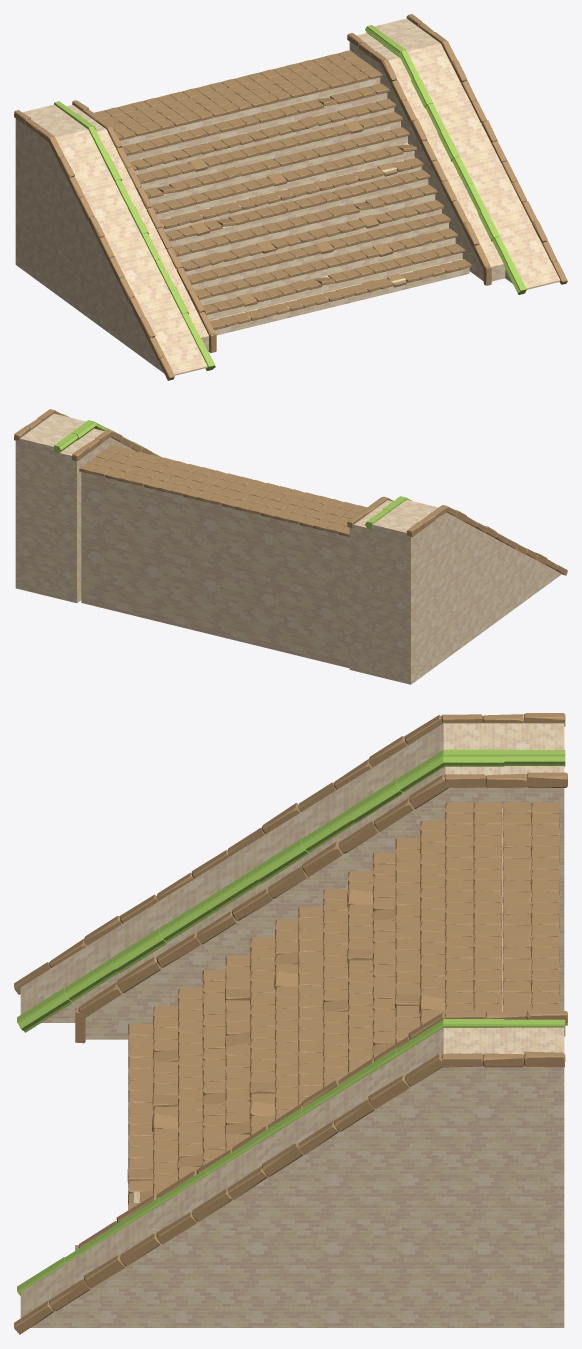
File: SM_staircase_wide.fbx
3 renders of one model, top to bottom at view 1: azimuth 30°, elevation 25°; view 2: azimuth 150°, elevation 25°; view 3: azimuth 270°, elevation 25°, orthographic. The views are drawn at different scales.
Parts seen in each view (by area): view 1: Object32851; view 2: Object32851; view 3: Object32851.
Part boxes in pixels (x1,y1,x2,y2): Object32851: (14,14,567,380); Object32851: (14,409,567,684); Object32851: (14,713,567,1334).
Bounding box in the file's own units: 603 × 229 × 410.
